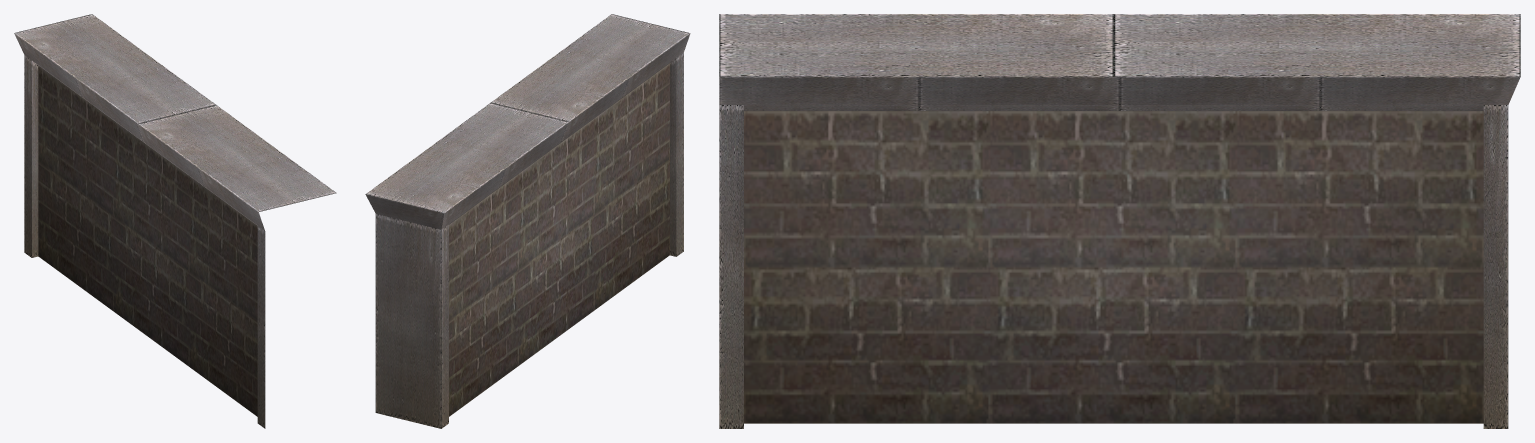
The model's file is M10_Zone2_Wall1End.glb.
3 views of the same model, side by side, from view 1: azimuth 30°, elevation 25°; view 2: azimuth 150°, elevation 25°; view 3: azimuth 270°, elevation 25° (orthographic). The views are drawn at different scales.
Visible parts, largest first — view 1: M10_ZONE2_WALL1END; view 2: M10_ZONE2_WALL1END; view 3: M10_ZONE2_WALL1END.
Part boxes in pixels (x1,y1,x2,y2): M10_ZONE2_WALL1END: (14, 14, 336, 428); M10_ZONE2_WALL1END: (365, 14, 690, 428); M10_ZONE2_WALL1END: (719, 14, 1520, 428).
Bounding box in the file's own units: 1.5 × 4 × 8.12.
2 materials, 2 textured.
